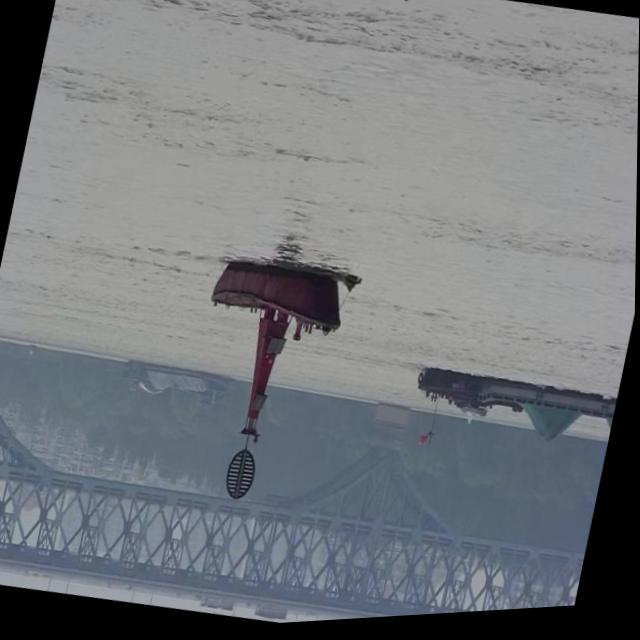ship2: (213, 264, 343, 499), (417, 371, 617, 451)
